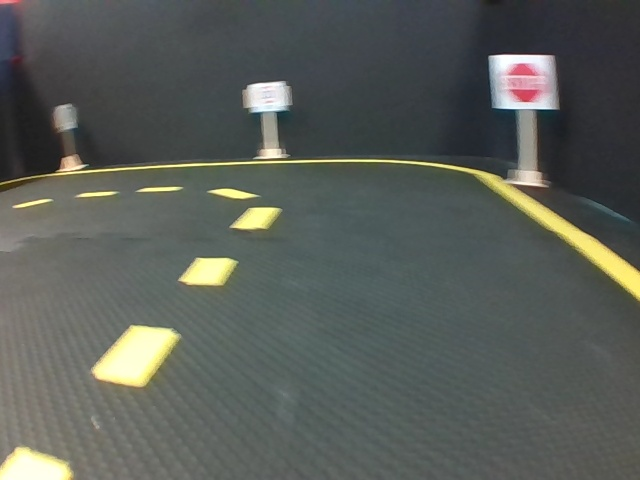30: (250, 83, 284, 110)
stop: (491, 53, 554, 108)
